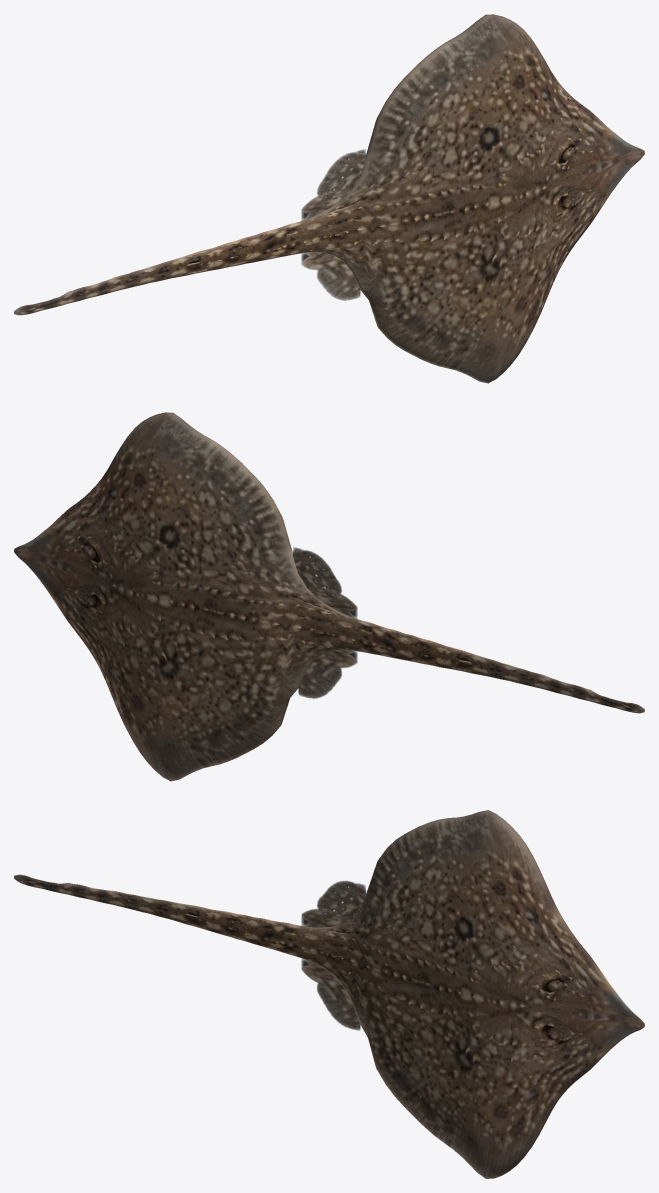
The model's file is fish-ray.glb.
3 renders of one model, top to bottom at view 1: azimuth 30°, elevation 25°; view 2: azimuth 150°, elevation 25°; view 3: azimuth 330°, elevation 25°, orthographic.
Parts seen in each view (by area): view 1: raja_clavata; view 2: raja_clavata; view 3: raja_clavata.
Boxes of the visible parts, <box> form: raja_clavata: <box>14,14,644,383</box>; raja_clavata: <box>14,412,644,781</box>; raja_clavata: <box>14,810,644,1178</box>.
Size of the model in its own units: 1.16 by 0.6472 by 0.0906.
Materials: 1 (1 with a texture image).
